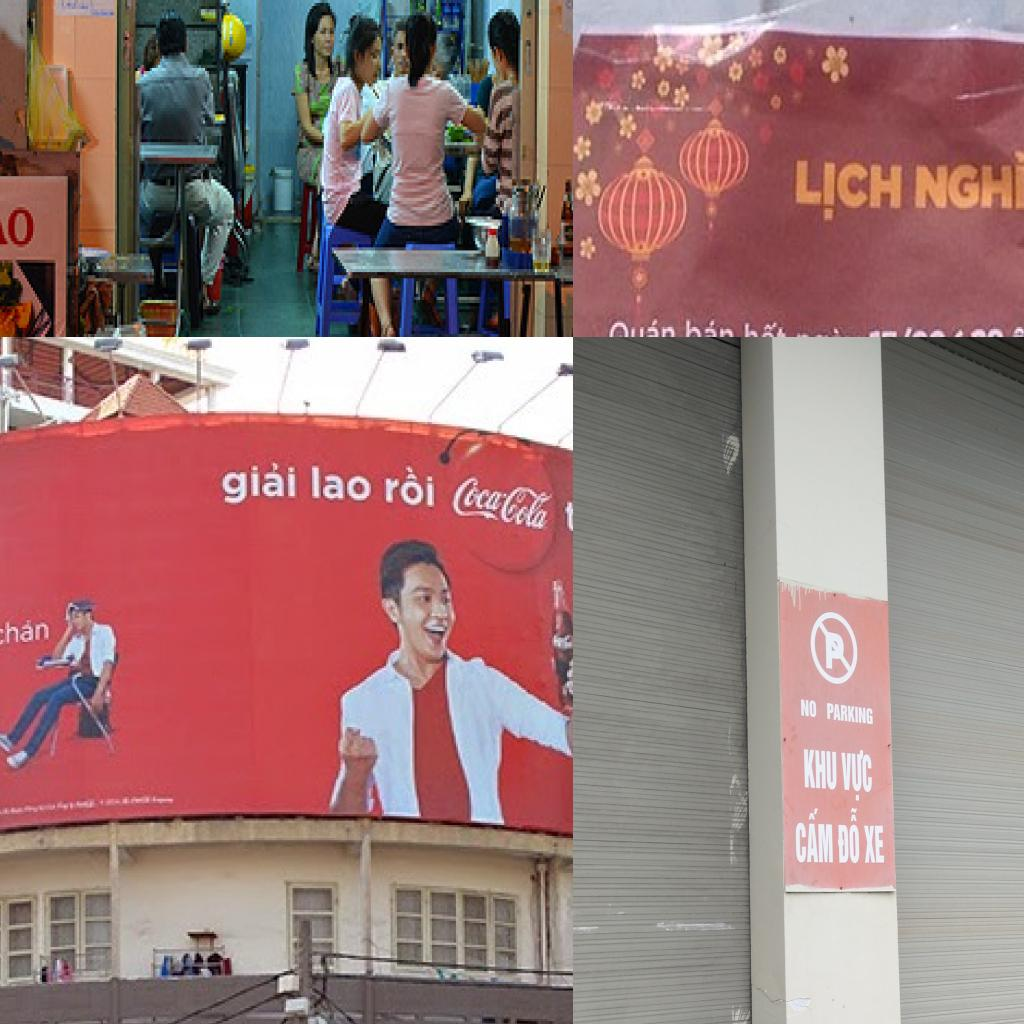text: (912, 142, 1024, 218), (794, 157, 908, 224), (448, 474, 558, 533), (221, 457, 299, 509), (310, 459, 375, 507), (789, 802, 835, 864), (384, 461, 438, 511), (0, 194, 41, 253), (0, 613, 55, 650), (838, 747, 876, 800), (799, 744, 838, 791), (834, 804, 862, 866), (609, 314, 678, 337), (680, 312, 737, 337), (824, 701, 874, 726), (739, 315, 789, 337), (822, 630, 844, 675), (862, 824, 884, 863), (793, 325, 863, 337), (969, 321, 1006, 337), (904, 325, 949, 337), (866, 323, 903, 337), (799, 696, 817, 718), (887, 327, 917, 337)
